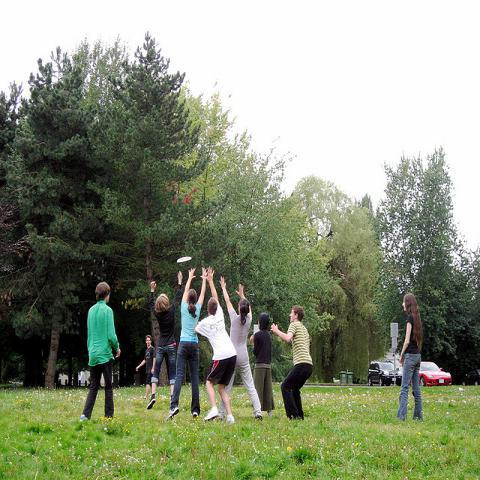car: (420, 361, 451, 388), (367, 359, 396, 386), (78, 372, 91, 386), (57, 374, 69, 388)
